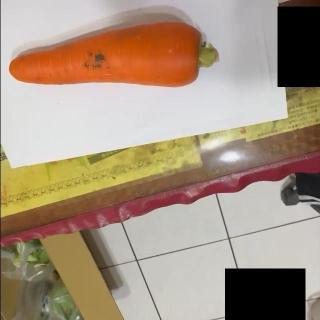carrot: (6, 21, 221, 89)
